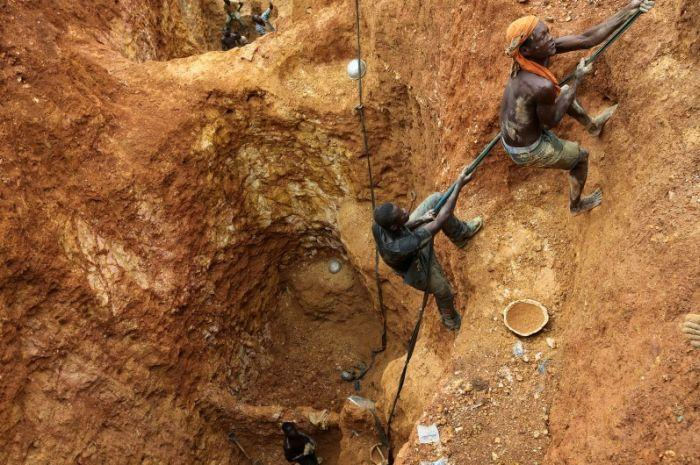MiningTool: (505, 298, 552, 337), (347, 60, 366, 82), (327, 260, 342, 274)
Person: (500, 1, 653, 221), (368, 187, 487, 338), (275, 419, 325, 464), (251, 1, 276, 34), (220, 1, 244, 25), (220, 25, 238, 52), (234, 29, 247, 45)
